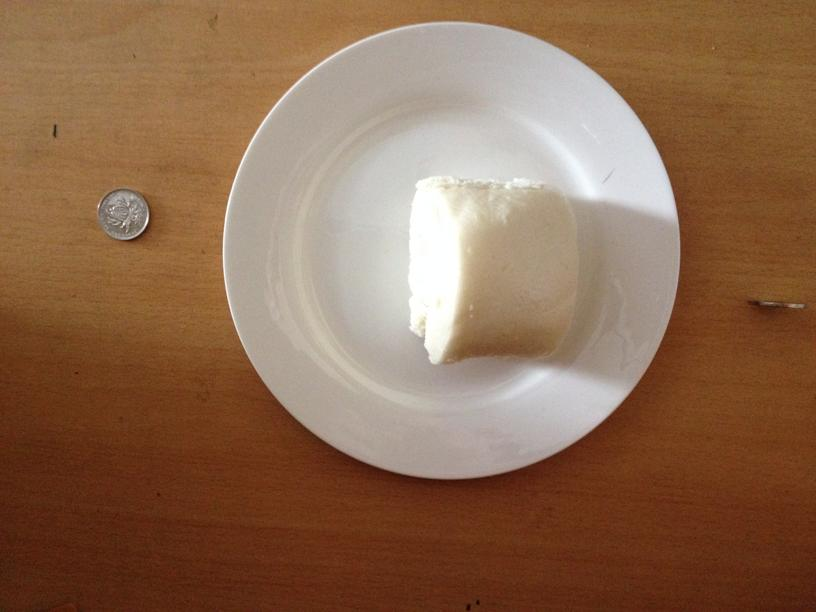bun: (404, 171, 581, 368)
coin: (95, 186, 150, 241)
